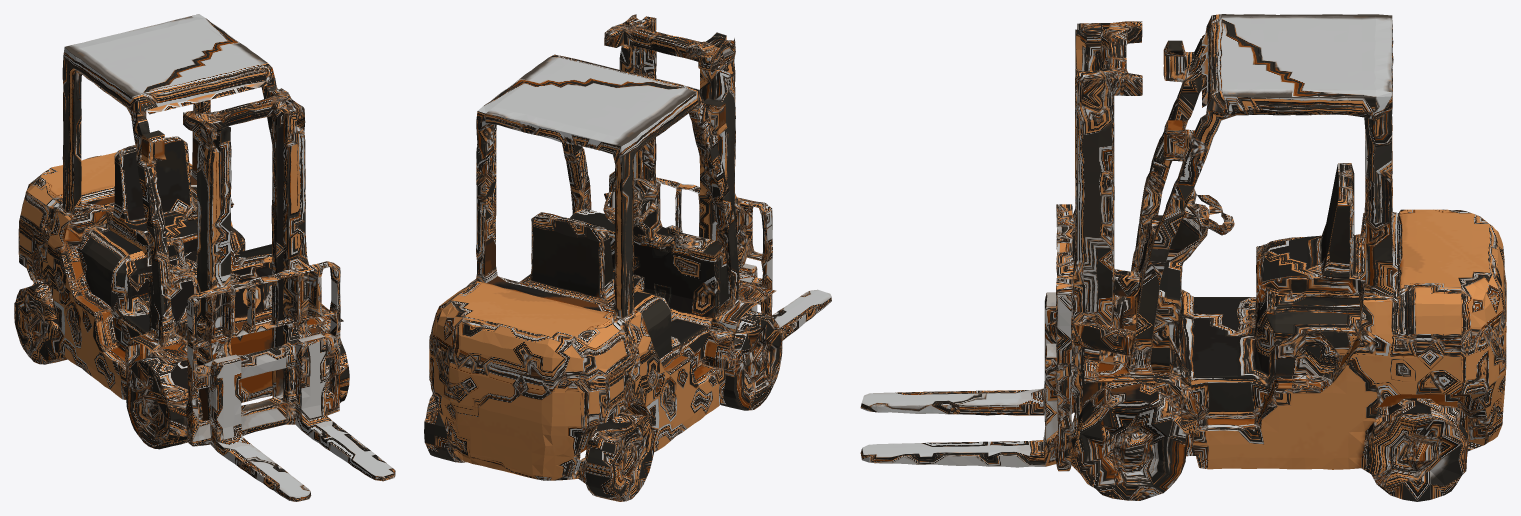
File: montacargas_bodega.glb
The picture shows the model from 3 angles, left to right: view 1: azimuth 30°, elevation 25°; view 2: azimuth 150°, elevation 25°; view 3: azimuth 270°, elevation 25°; orthographic projection. The views are drawn at different scales.
Parts seen in each view (by area): view 1: texture_pbr_v128; view 2: texture_pbr_v128; view 3: texture_pbr_v128.
Part boxes in pixels (x1,y1,x2,y2): texture_pbr_v128: [14, 14, 395, 501]; texture_pbr_v128: [424, 14, 831, 501]; texture_pbr_v128: [860, 14, 1506, 501].
Bounding box in the file's own units: 1.5 × 2.55 × 3.73.
1 material, 1 textured.
